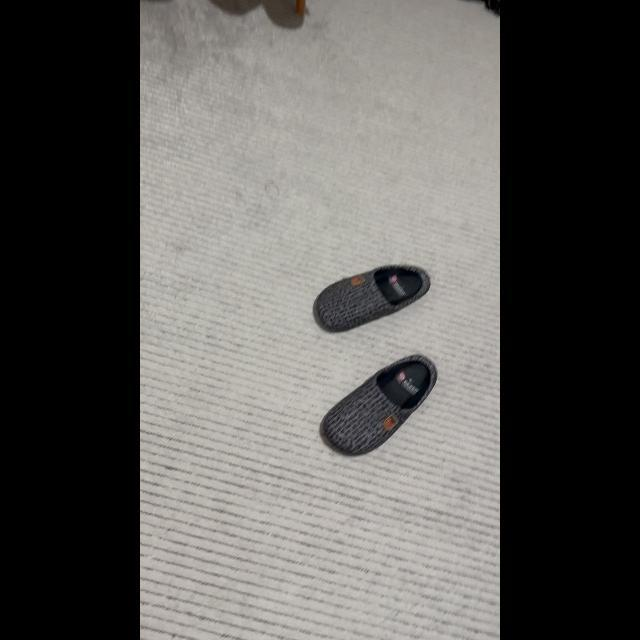slipper: (316, 349, 444, 463), (304, 258, 442, 330)
